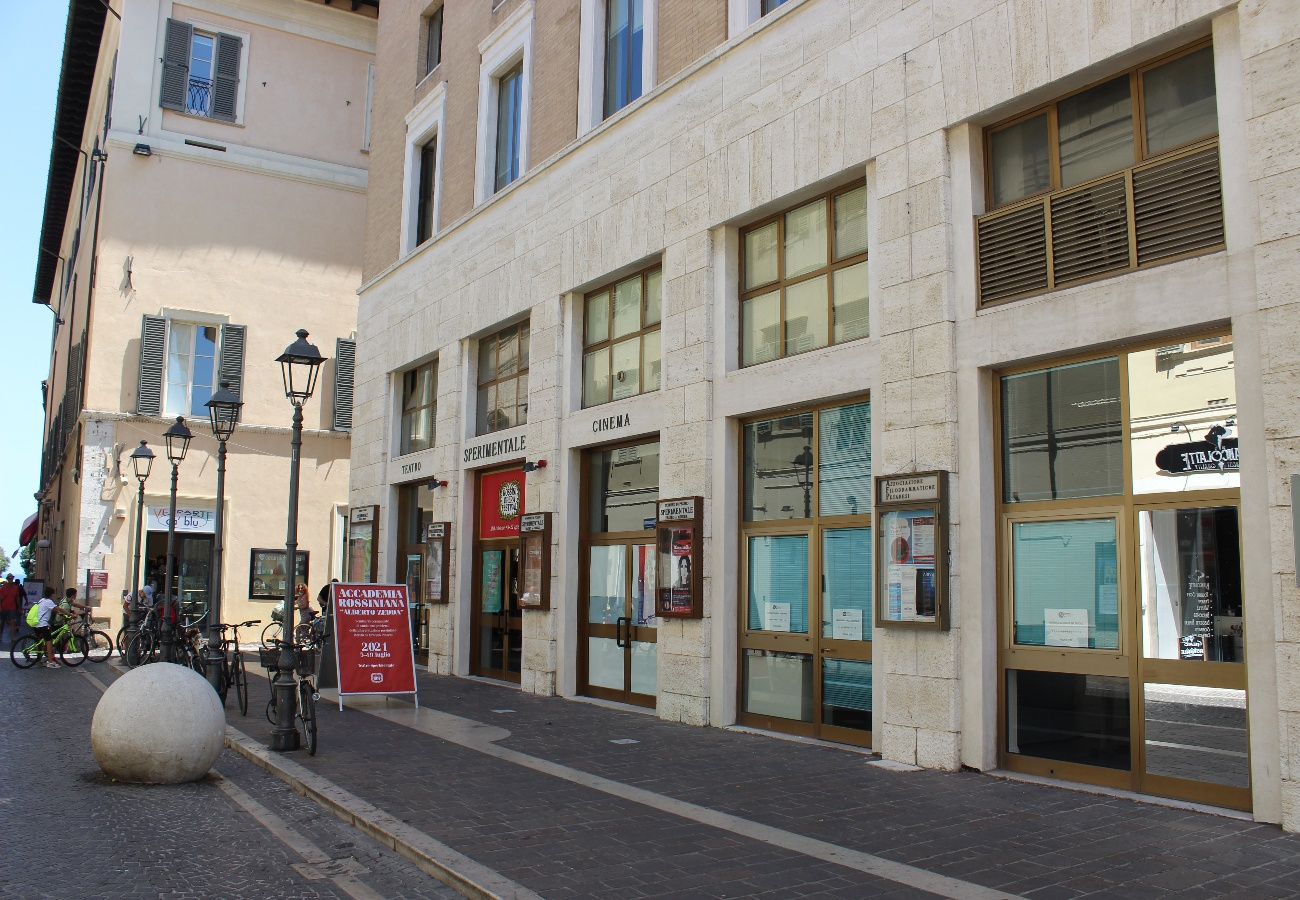Teatro Sperimentale: (335, 5, 1300, 835)
